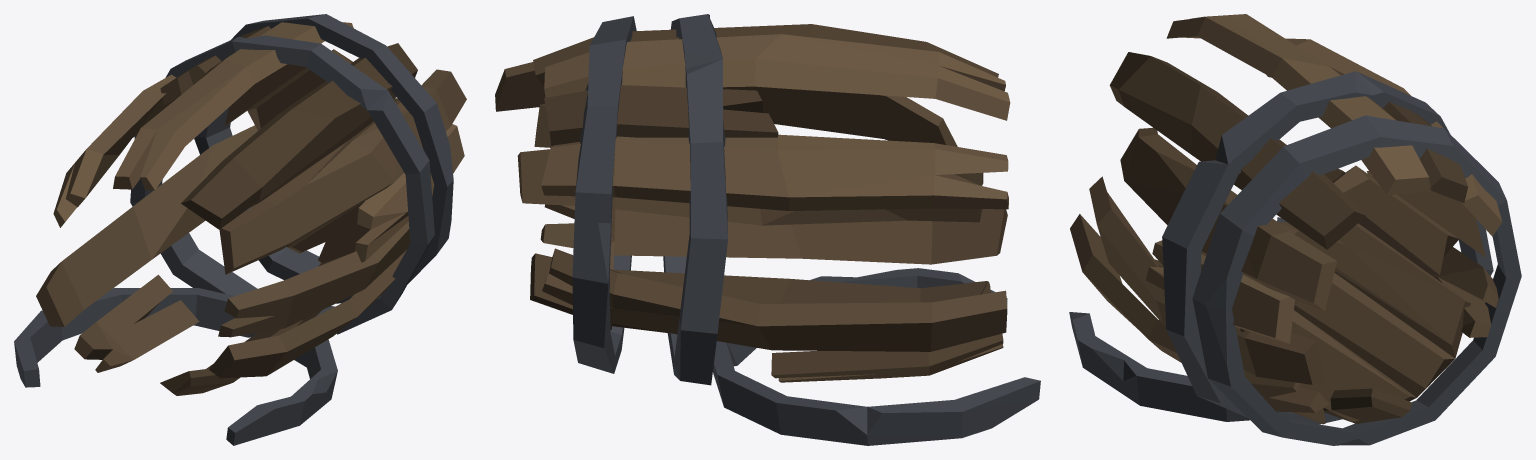
File: SM_Prop_Barrel_Broken_01.fbx
3 views of the same model, side by side, from view 1: azimuth 30°, elevation 25°; view 2: azimuth 150°, elevation 25°; view 3: azimuth 270°, elevation 25° (orthographic). The views are drawn at different scales.
Visible parts, largest first — view 1: SM_Prop_Barrel_Broken_01; view 2: SM_Prop_Barrel_Broken_01; view 3: SM_Prop_Barrel_Broken_01.
Part boxes in pixels (x1,y1,x2,y2): SM_Prop_Barrel_Broken_01: (14, 14, 466, 445); SM_Prop_Barrel_Broken_01: (495, 14, 1040, 445); SM_Prop_Barrel_Broken_01: (1069, 14, 1521, 445).
Bounding box in the file's own units: 139 × 84.93 × 104.
